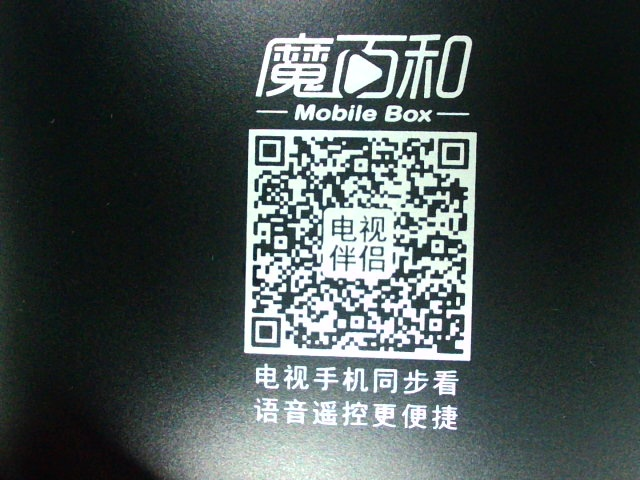AZ_MobileBox: (244, 26, 482, 433)
